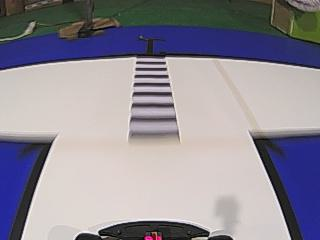CrossWalk: (122, 56, 187, 146)
